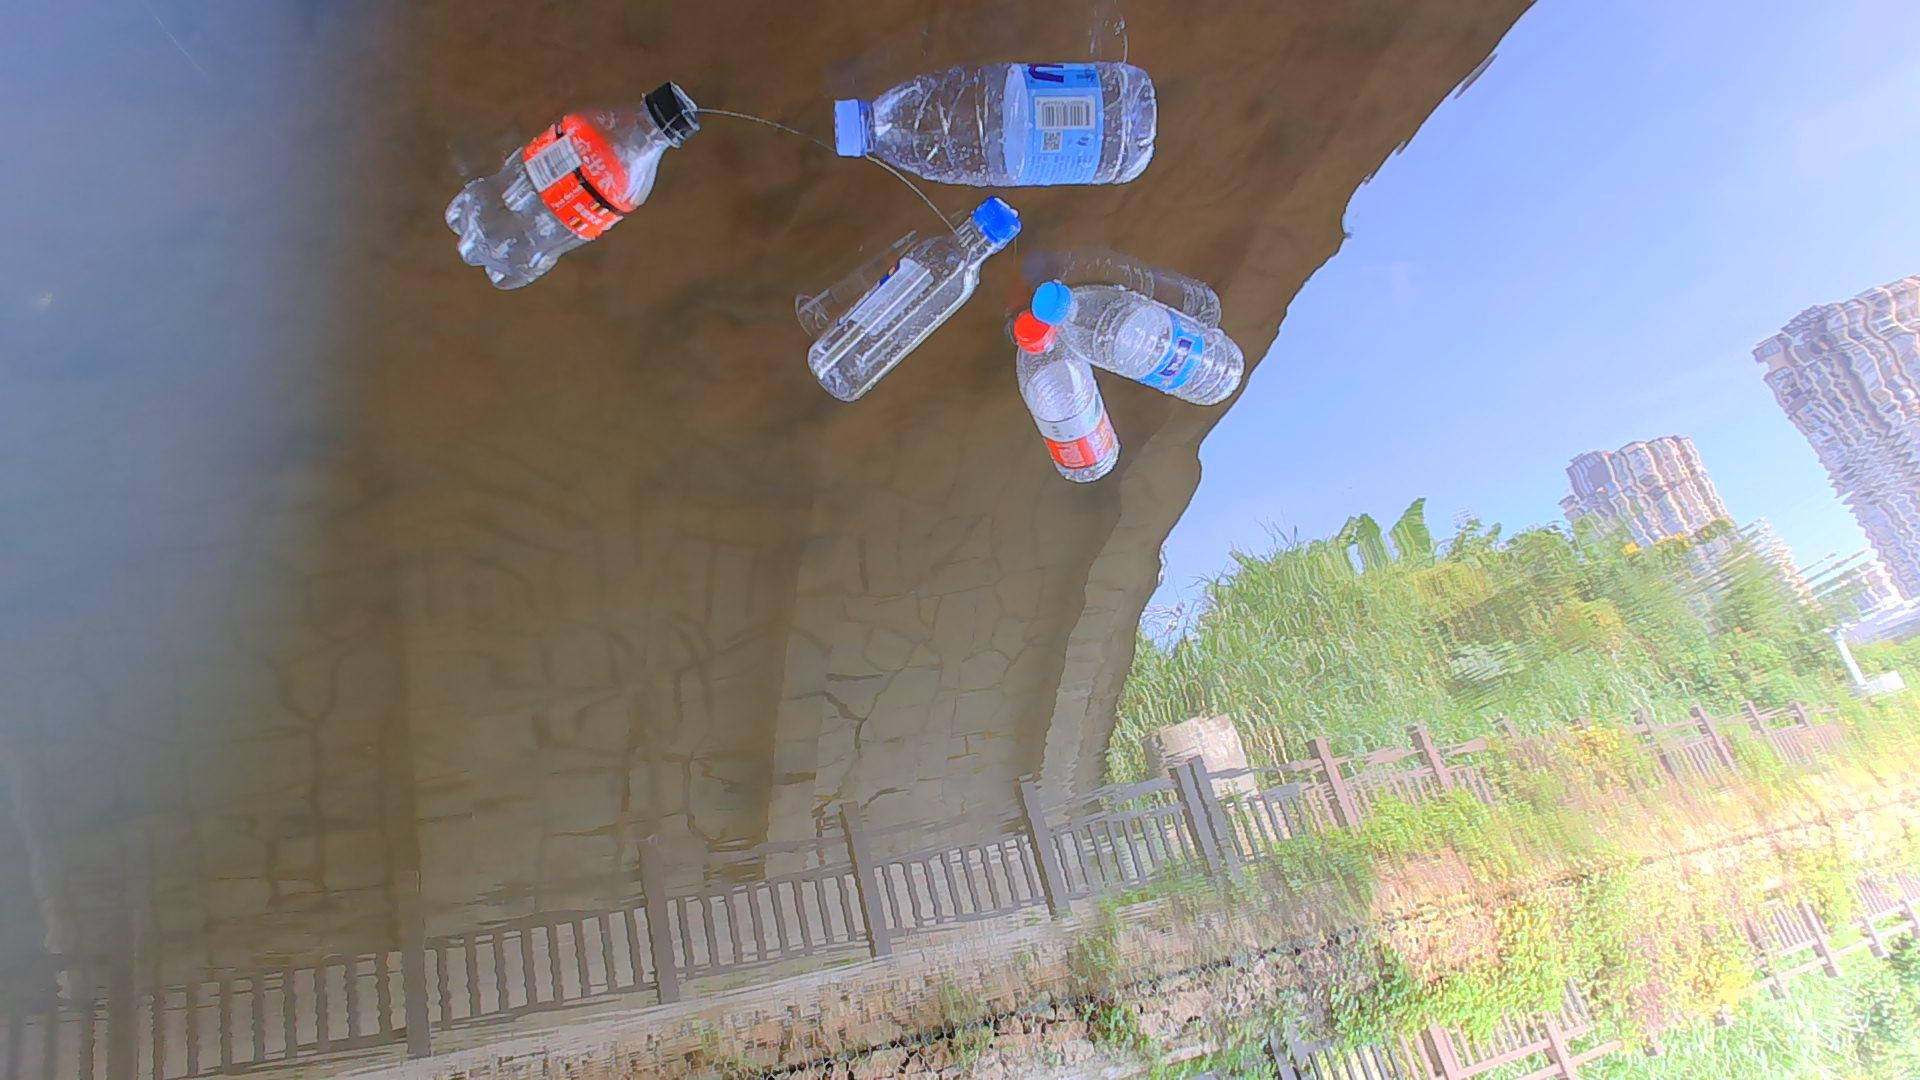Plastic: (440, 79, 704, 301), (798, 196, 1022, 411), (831, 55, 1160, 191), (1034, 280, 1242, 415), (1007, 319, 1124, 502)
